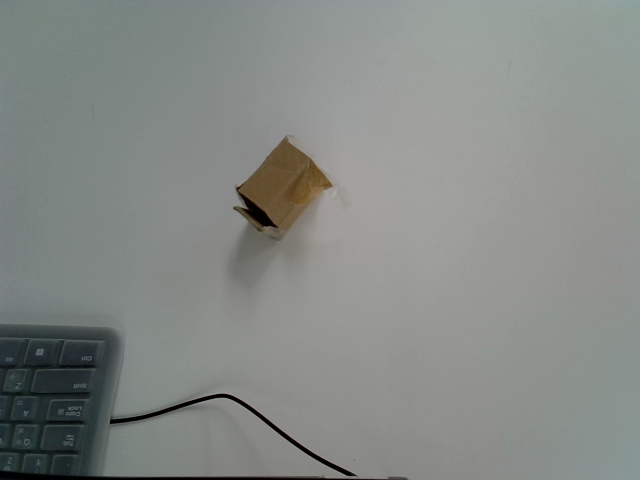defect: (233, 136, 351, 240)
